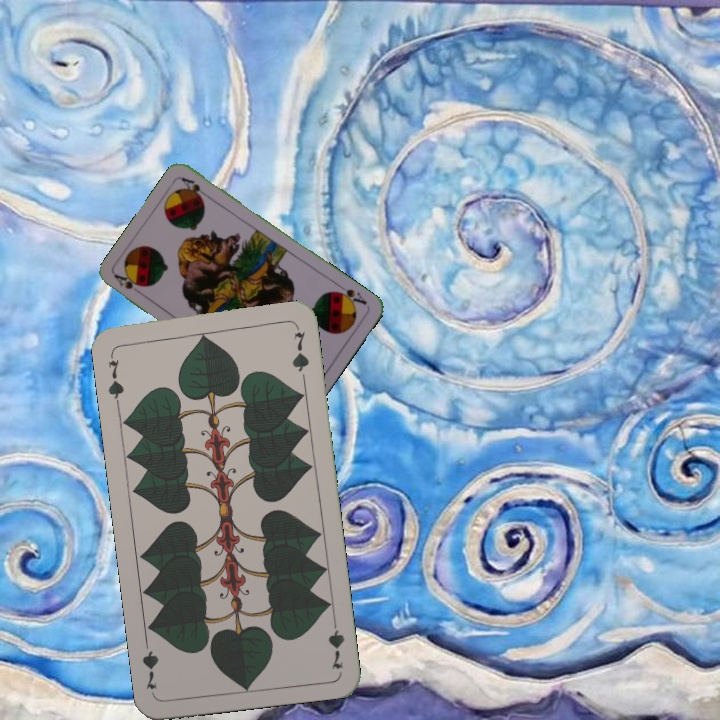G7: (324, 613, 347, 672), (104, 348, 126, 407)
SA: (331, 281, 370, 308), (110, 270, 145, 292)
